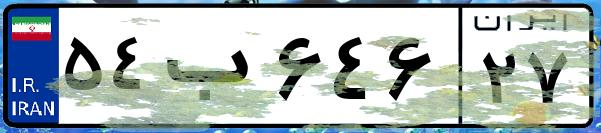2: (475, 38, 525, 113)
4: (330, 28, 385, 110), (110, 28, 158, 98)
5: (57, 26, 110, 100)
6: (270, 28, 330, 110), (385, 28, 445, 110)
7: (525, 38, 570, 115)
ب: (158, 20, 270, 120)
